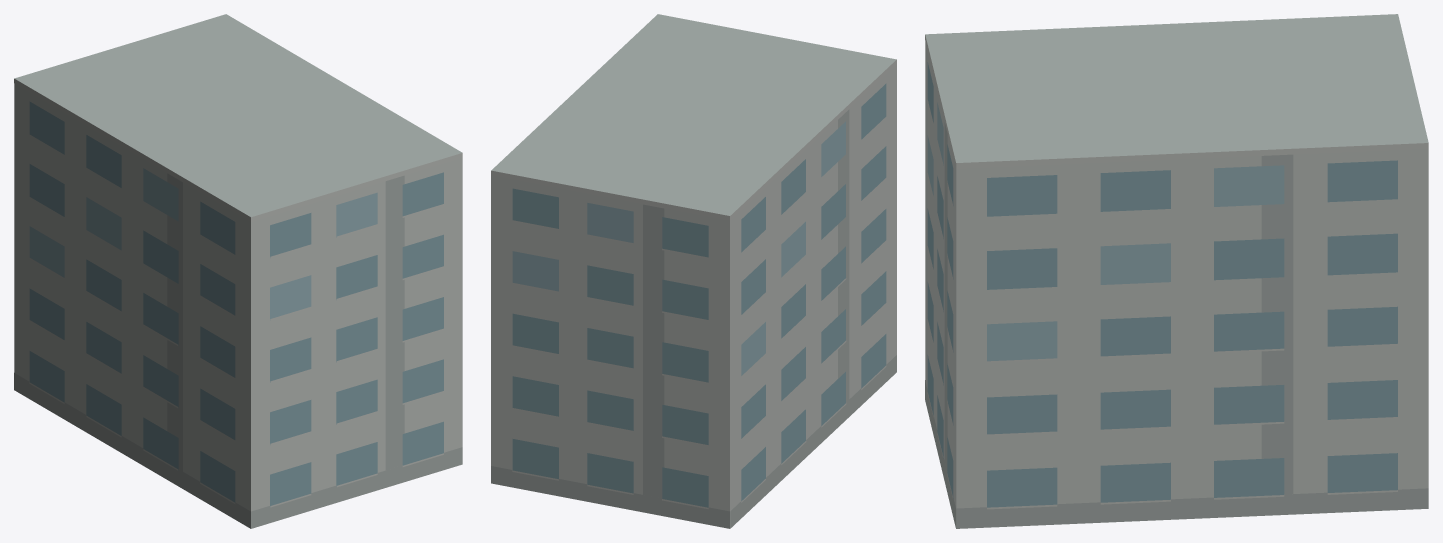
File: residential-609c39b8-b317-4332-a093-55dcf3df86e2.glb
The picture shows the model from 3 angles, left to right: view 1: azimuth 30°, elevation 25°; view 2: azimuth 150°, elevation 25°; view 3: azimuth 270°, elevation 25°; orthographic projection. The views are drawn at different scales.
Parts seen in each view (by area): view 1: residential-609c39b8-b317-4332-a093-55dcf3df86e2.tmp; view 2: residential-609c39b8-b317-4332-a093-55dcf3df86e2.tmp; view 3: residential-609c39b8-b317-4332-a093-55dcf3df86e2.tmp.
Boxes of the visible parts, x1=… form: residential-609c39b8-b317-4332-a093-55dcf3df86e2.tmp: x1=14, y1=14, x2=462, y2=528; residential-609c39b8-b317-4332-a093-55dcf3df86e2.tmp: x1=491, y1=14, x2=896, y2=528; residential-609c39b8-b317-4332-a093-55dcf3df86e2.tmp: x1=925, y1=14, x2=1428, y2=528.
Bounding box in the file's own units: 13.34 × 15.25 × 19.04.
